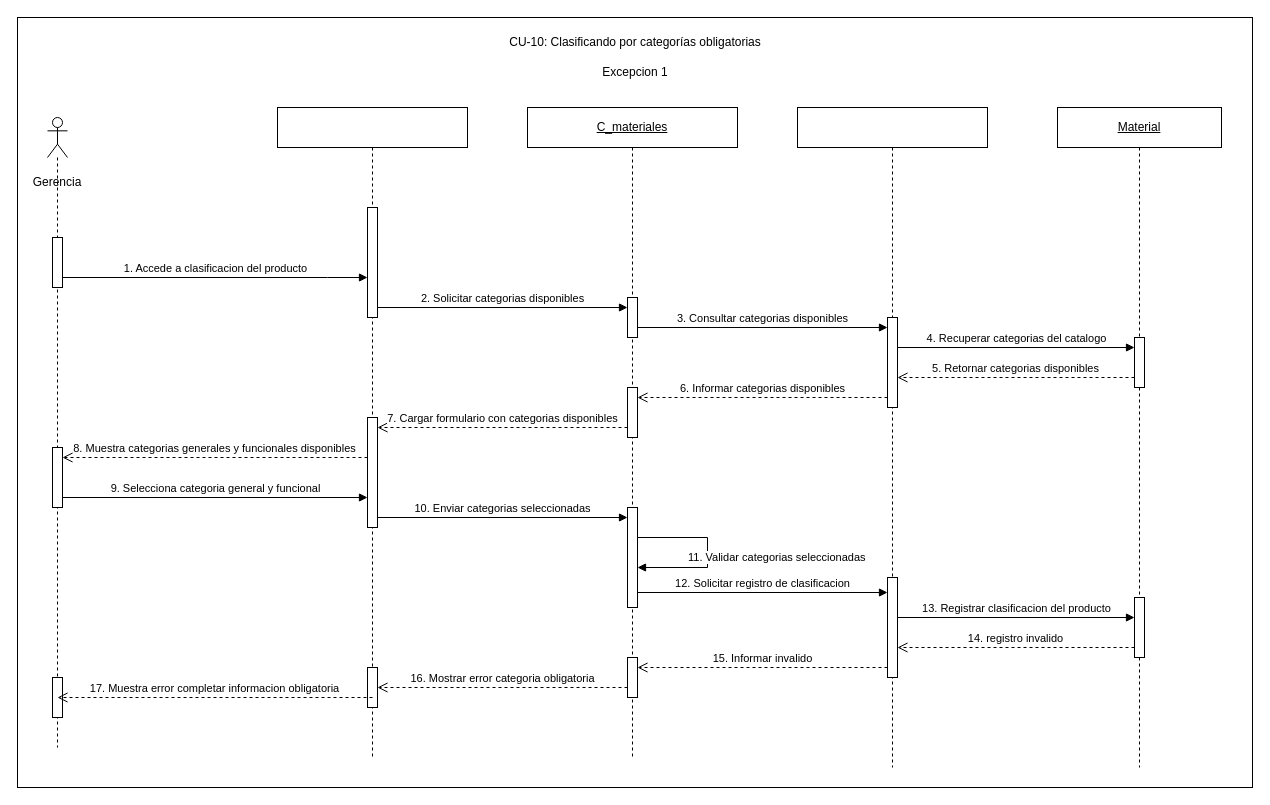
Some shapes in this 1270 by 805 pixel diagram are drawn without their labels. The box of each missing label's shape, as (x1, y1, x2, y2) in pixels:
C_Postgre: (796, 106, 988, 768)
V_NuevoProducto: (276, 106, 468, 758)
